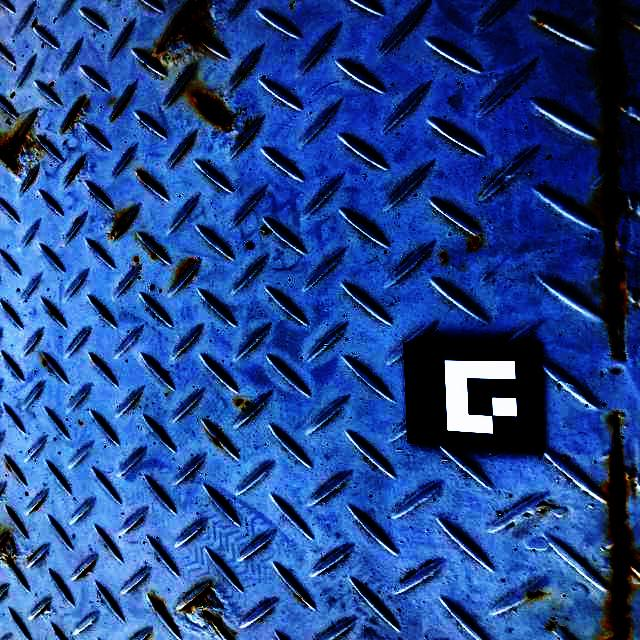Corrosion: (597, 0, 631, 358), (604, 449, 635, 640), (156, 0, 213, 53), (192, 92, 232, 126), (0, 129, 26, 171), (179, 587, 210, 610), (61, 101, 82, 133), (111, 98, 130, 120), (114, 215, 126, 232), (77, 564, 91, 577), (74, 161, 85, 173), (28, 170, 38, 183), (0, 537, 9, 550), (138, 171, 148, 182), (529, 593, 544, 600), (202, 612, 212, 622)
